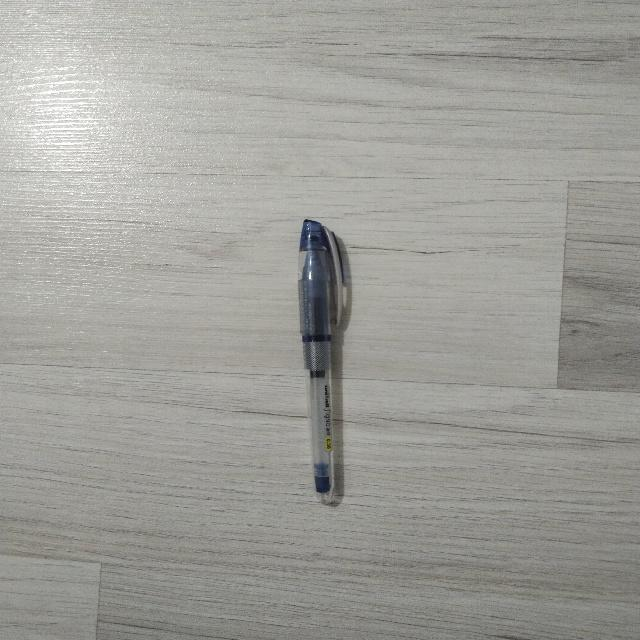pen: (299, 220, 342, 503)
